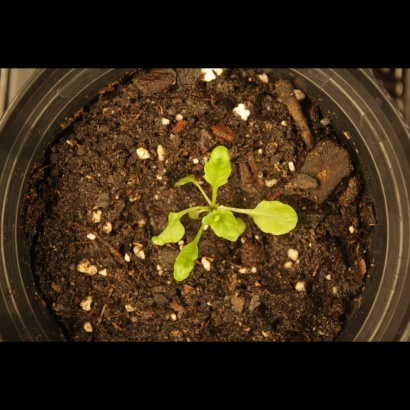leaf: (252, 197, 303, 243), (201, 138, 240, 194), (166, 237, 202, 287), (147, 205, 190, 243), (208, 205, 242, 247), (172, 171, 203, 196)
